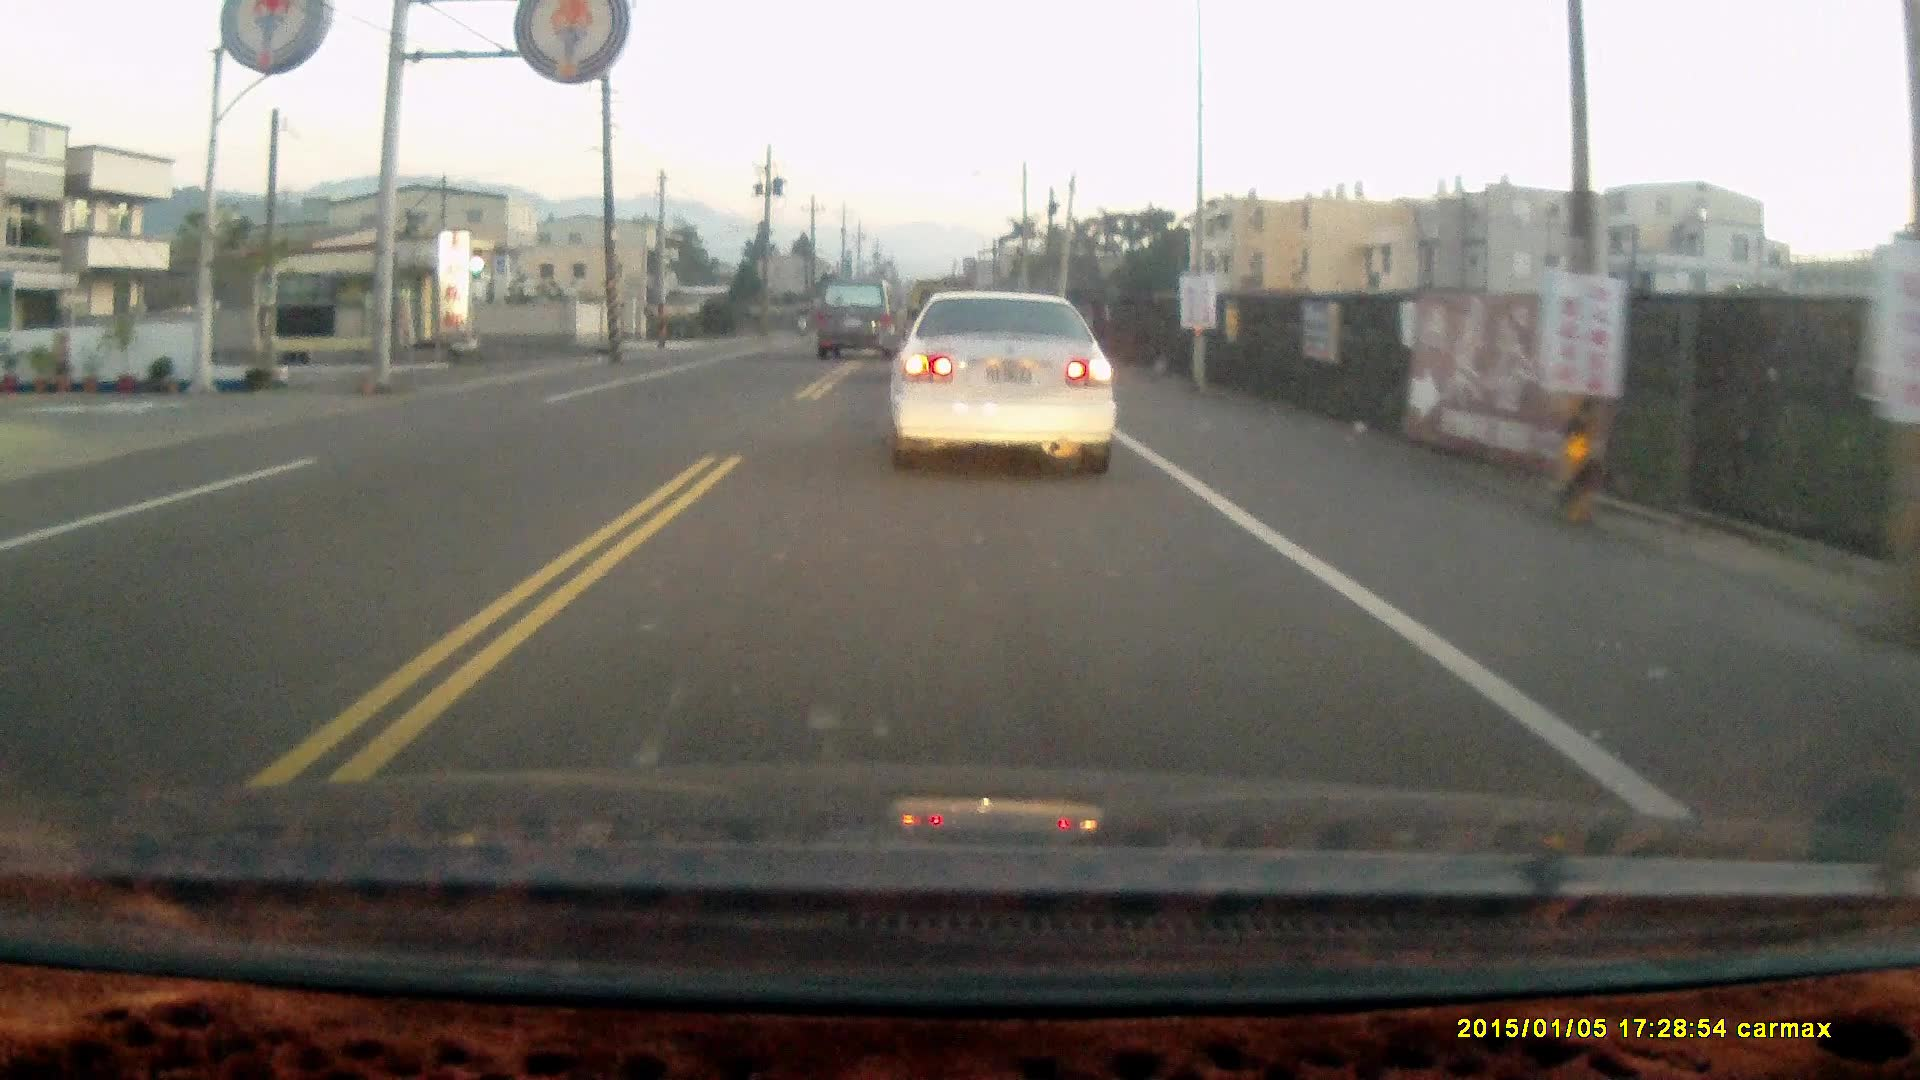vehicle: (886, 291, 1127, 483), (814, 276, 902, 365)
